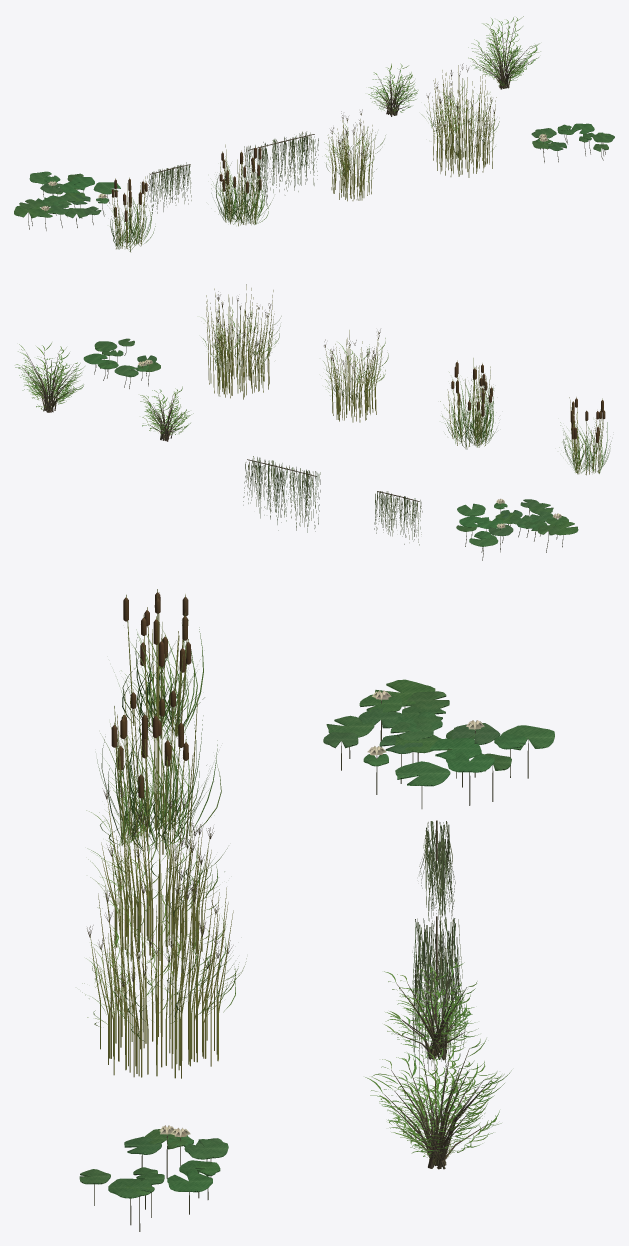
The model's file is PZ_Swamp_Vegetation_10Variant_Catalog.glb.
The picture shows the model from 3 angles, top to bottom: view 1: azimuth 30°, elevation 25°; view 2: azimuth 150°, elevation 25°; view 3: azimuth 270°, elevation 25°; orthographic projection. The views are drawn at different scales.
Visible parts, largest first — view 1: PZ_Reeds_Thicket_B__Reed_Stems_ClosedTapered, PZ_LilyPads_Patch_B__LilyPad_Individual_NotchedDiscs_Batched, PZ_HangingMoss_Drape_B__HangingMoss_FineDoubleSided_Ribbons, Reed_Stems_ClosedTapered, PZ_WetlandShrub_B__Shrub_IndividualSilhouetteLeaves_Batched, PZ_Cattails_Clump_B__Cattails_LeafBlades_TightSilhouette, LilyPad_Individual_NotchedDiscs_Batched, HangingMoss_FineDoubleSided_Ribbons, PZ_Cattails_Clump_B__Cattails_IndependentStalks_Batched, Cattails_LeafBlades_TightSilhouette, PZ_WetlandShrub_B__Shrub_WoodyBranchNetwork, Shrub_IndividualSilhouetteLeaves_Batched (+6 smaller); view 2: PZ_Reeds_Thicket_B__Reed_Stems_ClosedTapered, PZ_LilyPads_Patch_B__LilyPad_Individual_NotchedDiscs_Batched, PZ_HangingMoss_Drape_B__HangingMoss_FineDoubleSided_Ribbons, Reed_Stems_ClosedTapered, PZ_Cattails_Clump_B__Cattails_LeafBlades_TightSilhouette, PZ_WetlandShrub_B__Shrub_IndividualSilhouetteLeaves_Batched, LilyPad_Individual_NotchedDiscs_Batched, HangingMoss_FineDoubleSided_Ribbons, PZ_Cattails_Clump_B__Cattails_IndependentStalks_Batched, PZ_WetlandShrub_B__Shrub_WoodyBranchNetwork, Cattails_LeafBlades_TightSilhouette, Shrub_IndividualSilhouetteLeaves_Batched (+6 smaller); view 3: PZ_Reeds_Thicket_B__Reed_Stems_ClosedTapered, PZ_LilyPads_Patch_B__LilyPad_Individual_NotchedDiscs_Batched, Reed_Stems_ClosedTapered, PZ_WetlandShrub_B__Shrub_IndividualSilhouetteLeaves_Batched, PZ_Cattails_Clump_B__Cattails_LeafBlades_TightSilhouette, LilyPad_Individual_NotchedDiscs_Batched, PZ_HangingMoss_Drape_B__HangingMoss_FineDoubleSided_Ribbons, PZ_Cattails_Clump_B__Cattails_IndependentStalks_Batched, PZ_WetlandShrub_B__Shrub_WoodyBranchNetwork, Cattails_LeafBlades_TightSilhouette, Shrub_IndividualSilhouetteLeaves_Batched, PZ_Reeds_Thicket_B__Reed_NarrowLeaves_LowOverdraw (+7 smaller).
Part boxes in pixels (x1,y1,x2,y2): PZ_Reeds_Thicket_B__Reed_Stems_ClosedTapered: (428,65,496,177); PZ_LilyPads_Patch_B__LilyPad_Individual_NotchedDiscs_Batched: (14,171,120,218); PZ_HangingMoss_Drape_B__HangingMoss_FineDoubleSided_Ribbons: (240,131,318,205); Reed_Stems_ClosedTapered: (328,113,375,201); PZ_WetlandShrub_B__Shrub_IndividualSilhouetteLeaves_Batched: (468,16,540,86); PZ_Cattails_Clump_B__Cattails_LeafBlades_TightSilhouette: (211,161,273,225); LilyPad_Individual_NotchedDiscs_Batched: (531,123,614,151); HangingMoss_FineDoubleSided_Ribbons: (145,162,191,213); PZ_Cattails_Clump_B__Cattails_IndependentStalks_Batched: (220,144,260,226); Cattails_LeafBlades_TightSilhouette: (105,191,155,251); PZ_WetlandShrub_B__Shrub_WoodyBranchNetwork: (473,22,533,89); Shrub_IndividualSilhouetteLeaves_Batched: (368,63,418,112); PZ_Reeds_Thicket_B__Reed_Stems_ClosedTapered: (206,284,274,399); PZ_LilyPads_Patch_B__LilyPad_Individual_NotchedDiscs_Batched: (456,499,578,546); PZ_HangingMoss_Drape_B__HangingMoss_FineDoubleSided_Ribbons: (243,456,320,532); Reed_Stems_ClosedTapered: (325,330,382,422); PZ_Cattails_Clump_B__Cattails_LeafBlades_TightSilhouette: (440,372,496,449); PZ_WetlandShrub_B__Shrub_IndividualSilhouetteLeaves_Batched: (15,343,84,409); LilyPad_Individual_NotchedDiscs_Batched: (83,338,160,377); HangingMoss_FineDoubleSided_Ribbons: (374,491,422,545); PZ_Cattails_Clump_B__Cattails_IndependentStalks_Batched: (447,358,491,448); PZ_WetlandShrub_B__Shrub_WoodyBranchNetwork: (22,351,75,412); Cattails_LeafBlades_TightSilhouette: (559,420,611,474); Shrub_IndividualSilhouetteLeaves_Batched: (140,386,193,434); PZ_Reeds_Thicket_B__Reed_Stems_ClosedTapered: (90,856,233,1078); PZ_LilyPads_Patch_B__LilyPad_Individual_NotchedDiscs_Batched: (323,679,554,786); Reed_Stems_ClosedTapered: (101,793,211,961); PZ_WetlandShrub_B__Shrub_IndividualSilhouetteLeaves_Batched: (365,1038,511,1157); PZ_Cattails_Clump_B__Cattails_LeafBlades_TightSilhouette: (97,707,221,853); LilyPad_Individual_NotchedDiscs_Batched: (79,1129,228,1198); PZ_HangingMoss_Drape_B__HangingMoss_FineDoubleSided_Ribbons: (412,917,465,1089); PZ_Cattails_Clump_B__Cattails_IndependentStalks_Batched: (114,687,197,854); PZ_WetlandShrub_B__Shrub_WoodyBranchNetwork: (383,1048,490,1169); Cattails_LeafBlades_TightSilhouette: (114,625,204,740); Shrub_IndividualSilhouetteLeaves_Batched: (384,961,478,1049); PZ_Reeds_Thicket_B__Reed_NarrowLeaves_LowOverdraw: (82,892,246,1041).
Size of the model in its own units: 17.63 by 4.78 by 6.93.
Materials: 8 (8 with a texture image).
